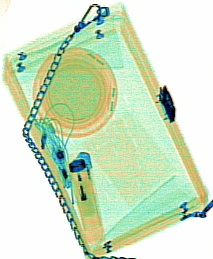lighter: (67, 150, 104, 243)
